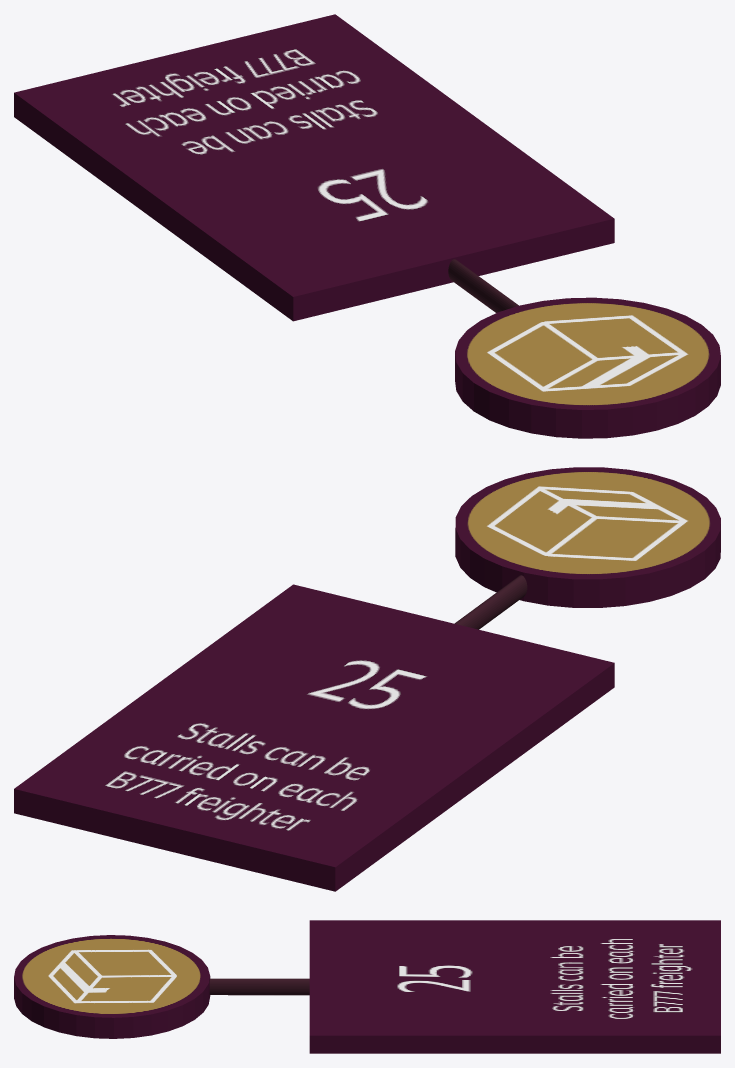
Rendered from Flyer3.gltf.
3 views of the same model, one above another, from view 1: azimuth 30°, elevation 25°; view 2: azimuth 150°, elevation 25°; view 3: azimuth 270°, elevation 25° (orthographic). The views are drawn at different scales.
Visible parts, largest first — view 1: Cube, Cylinder, Cylinder.001; view 2: Cube, Cylinder, Cylinder.001; view 3: Cube, Cylinder, Cylinder.001.
Boxes of the visible parts, x1,y1,x2,y2 form: Cube: [14, 14, 614, 321]; Cylinder: [455, 297, 720, 438]; Cylinder.001: [448, 259, 518, 312]; Cube: [14, 584, 614, 891]; Cylinder: [455, 467, 720, 607]; Cylinder.001: [454, 575, 527, 629]; Cube: [309, 920, 720, 1053]; Cylinder: [14, 935, 210, 1038]; Cylinder.001: [209, 978, 309, 995].
Bounding box in the file's own units: 3.08 × 0.2626 × 7.98.
3 materials, 2 textured.
